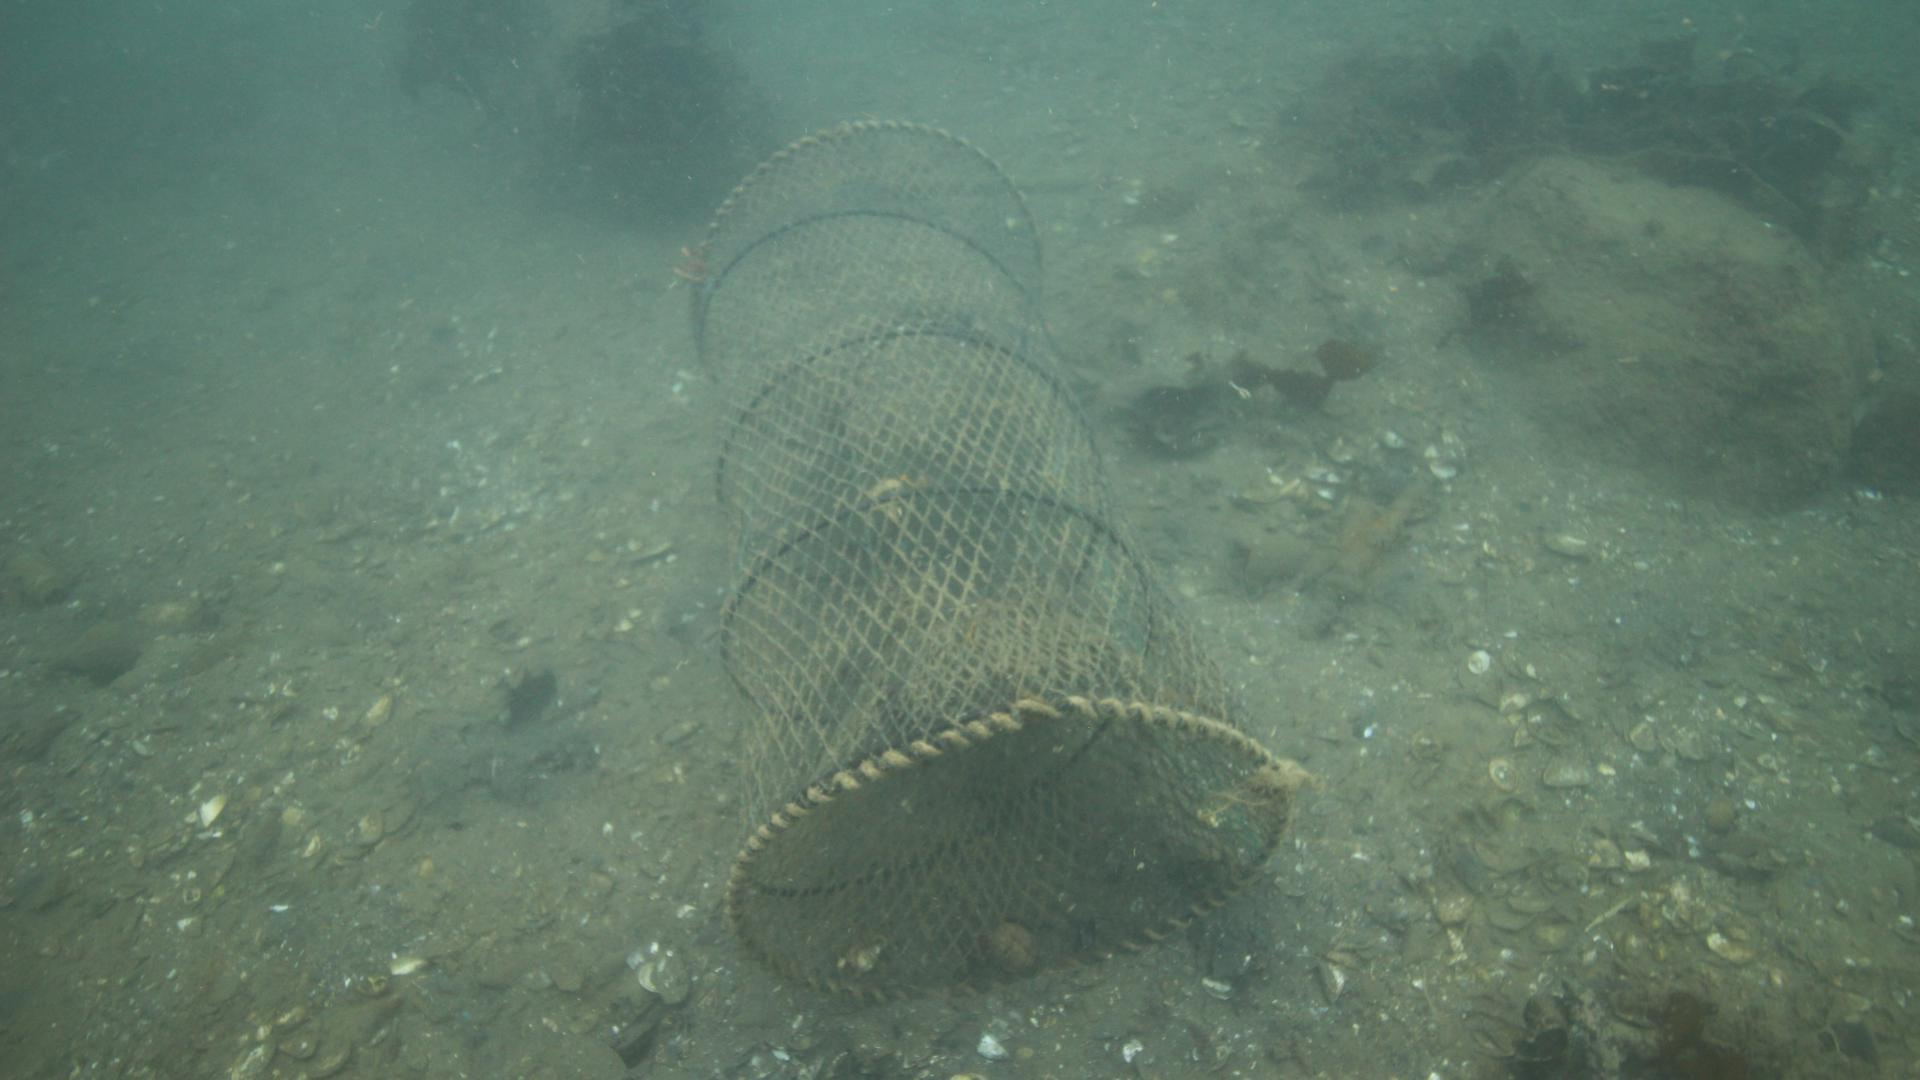spring fish trap: (684, 113, 1291, 1005)
